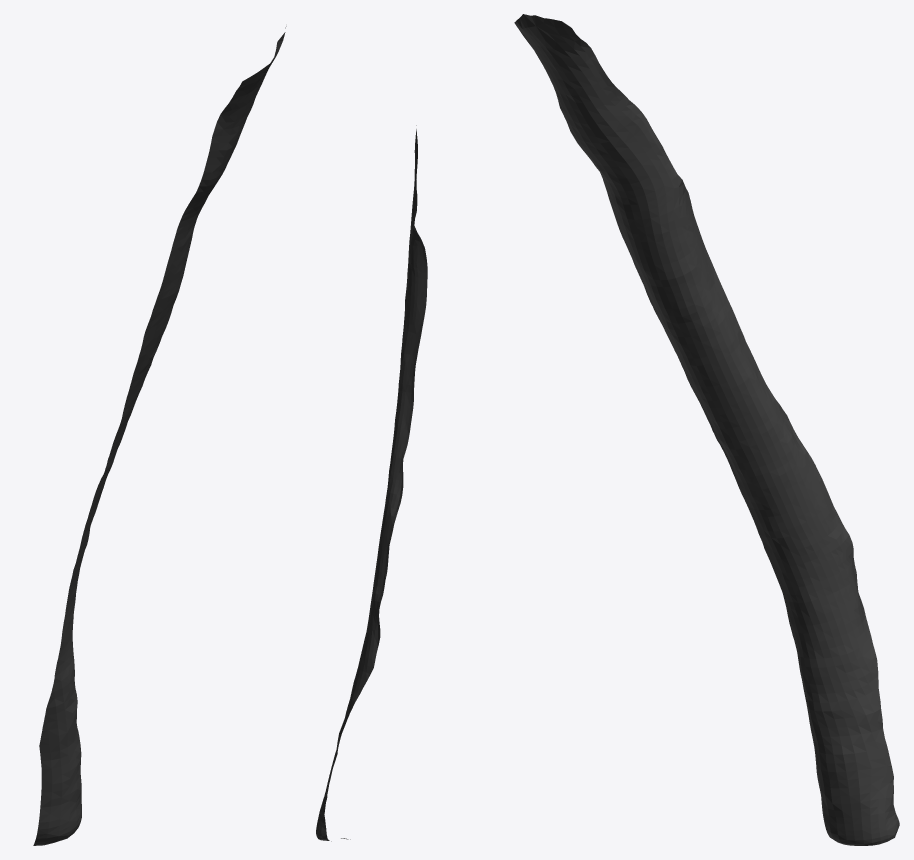
The model's file is eq_dist_limb_SDF_Tendon.glb.
3 views of the same model, side by side, from view 1: azimuth 30°, elevation 25°; view 2: azimuth 150°, elevation 25°; view 3: azimuth 270°, elevation 25° (orthographic). The views are drawn at different scales.
Visible parts, largest first — view 1: eq_dist_limb_SDF_Tendon; view 2: eq_dist_limb_SDF_Tendon; view 3: eq_dist_limb_SDF_Tendon.
Boxes of the visible parts, x1,y1,x2,y2 form: eq_dist_limb_SDF_Tendon: (33,26,286,845); eq_dist_limb_SDF_Tendon: (316,125,427,841); eq_dist_limb_SDF_Tendon: (514,14,899,845).
Bounding box in the file's own units: 0.00334 × 0.0262 × 0.0107.
Materials: 1 (1 with a texture image).
